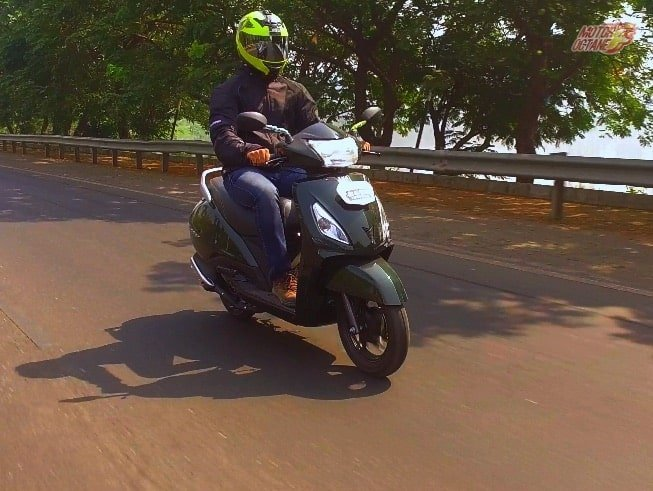helmet: (236, 11, 293, 71)
